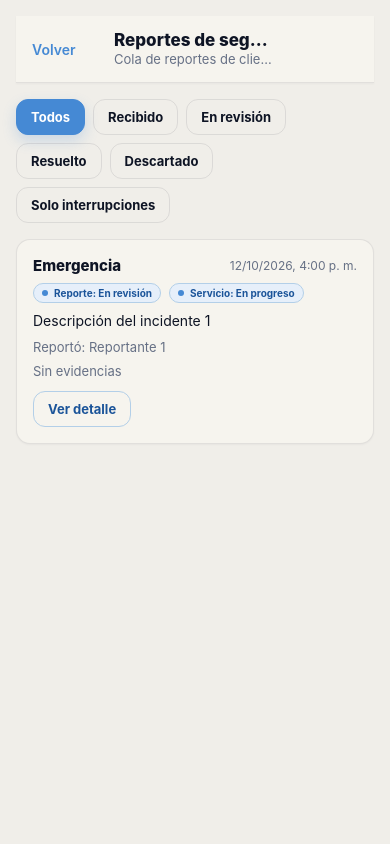
Scenario: AdminSecurityReportsScreen — cambio de estado › solo ofrece las transiciones que da el backend
Expected: the text "Descripción del incidente 1" is shown, [33, 312, 210, 329]
What coordinates should you click on to do the following:
click the text "Ver detalle"
I would click on:
 (82, 409)
Its box is [48, 401, 116, 417].
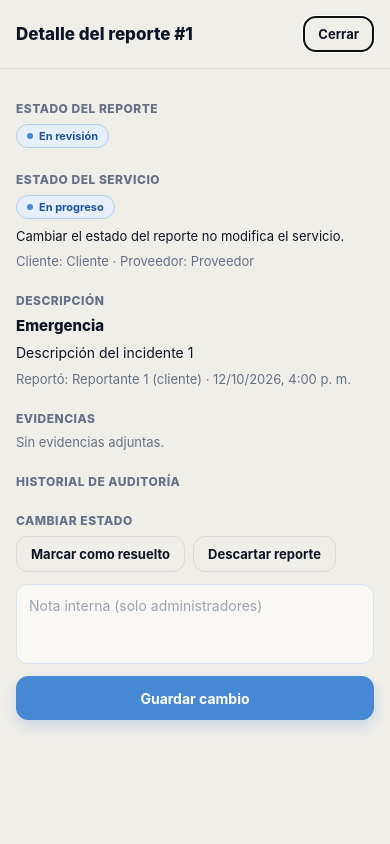
Now the text "Marcar como resuelto" is shown, box [31, 546, 170, 562]
Now the text "Descartar reporte" is shown, box [208, 546, 321, 562]
